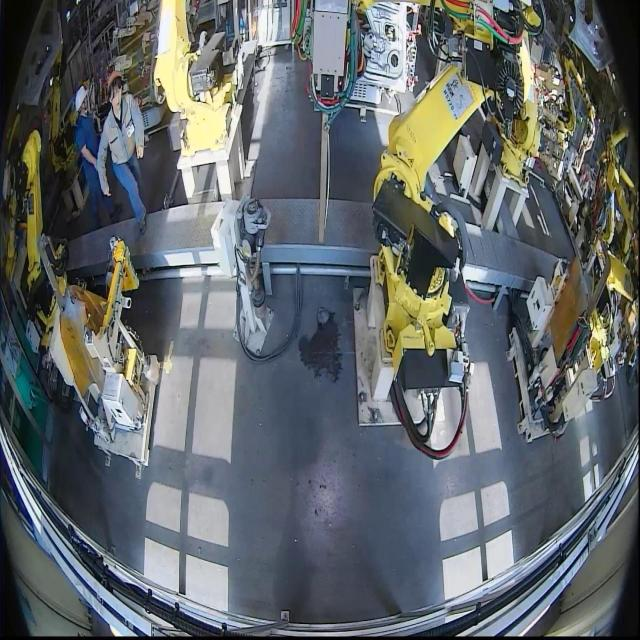Person: (97, 71, 147, 235), (67, 86, 116, 223)
